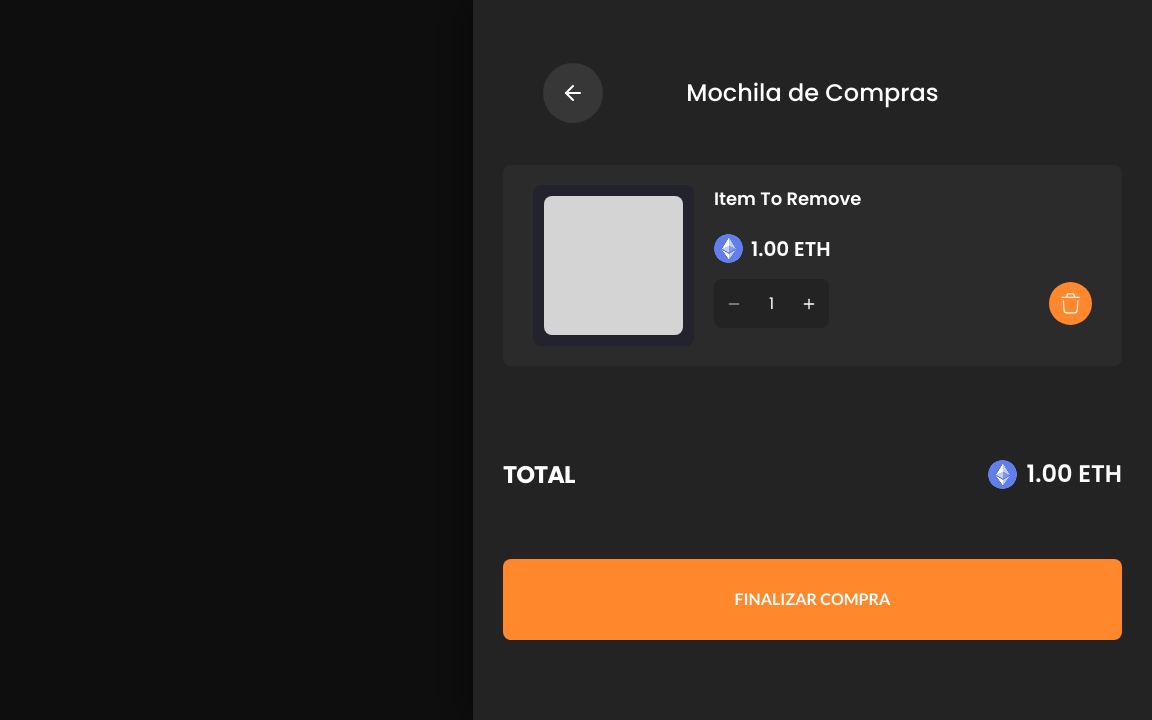
Test: CartOverlay Component › should remove item when trash button is clicked
Expected: the heading "Item To Remove" is shown, [714,186,861,211]
Click the button named "Remove item": (1070, 304) [1049,282,1092,325]
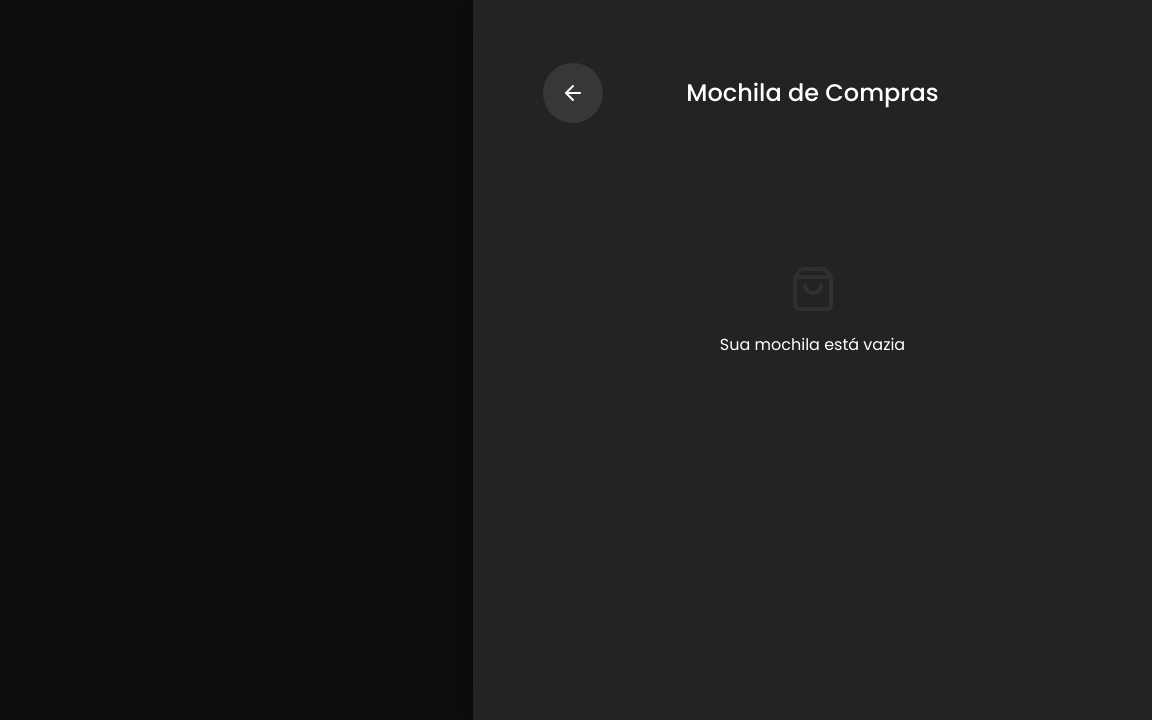
Expected: the text "Sua mochila está vazia" is shown, [720,333,905,357]
Expected: the heading "Item To Remove" is gone
